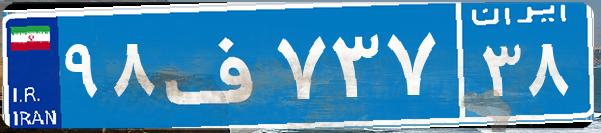3: (330, 28, 385, 110), (475, 38, 525, 113)
7: (385, 28, 445, 110), (273, 28, 330, 110)
8: (110, 28, 158, 105), (525, 38, 570, 115)
9: (57, 26, 110, 107)
ف: (158, 15, 273, 115)
